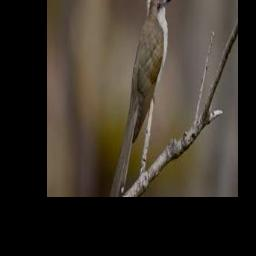Cuckoo: (110, 0, 172, 197)
